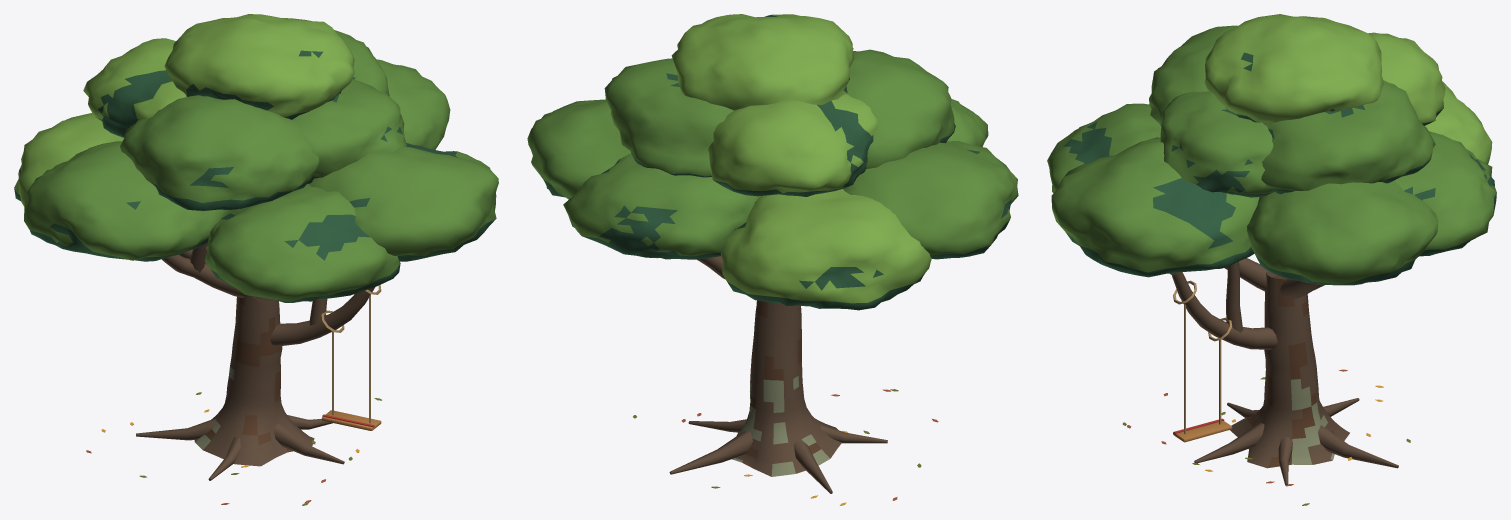
File: deco_tree_broad.fbx
The picture shows the model from 3 angles, left to right: view 1: azimuth 30°, elevation 25°; view 2: azimuth 150°, elevation 25°; view 3: azimuth 270°, elevation 25°; orthographic projection. The views are drawn at different scales.
Parts seen in each view (by area): view 1: Tree_Broad_Canopy, Tree_Broad_Trunk, Tree_Broad_Branches, Tree_Broad_Swing; view 2: Tree_Broad_Canopy, Tree_Broad_Trunk; view 3: Tree_Broad_Canopy, Tree_Broad_Trunk, Tree_Broad_Branches, Tree_Broad_Swing.
Part boxes in pixels (x1=…): Tree_Broad_Canopy: x1=14, y1=14, x2=498, y2=302; Tree_Broad_Trunk: x1=86, y1=295, x2=381, y2=505; Tree_Broad_Branches: x1=161, y1=242, x2=375, y2=346; Tree_Broad_Swing: x1=321, y1=285, x2=381, y2=430; Tree_Broad_Canopy: x1=527, y1=14, x2=1018, y2=310; Tree_Broad_Trunk: x1=633, y1=300, x2=938, y2=505; Tree_Broad_Canopy: x1=1047, y1=14, x2=1496, y2=285; Tree_Broad_Trunk: x1=1122, y1=272, x2=1410, y2=505; Tree_Broad_Branches: x1=1169, y1=258, x2=1324, y2=349; Tree_Broad_Swing: x1=1173, y1=280, x2=1232, y2=442.
Size of the model in its own units: 782 by 720 by 701.
